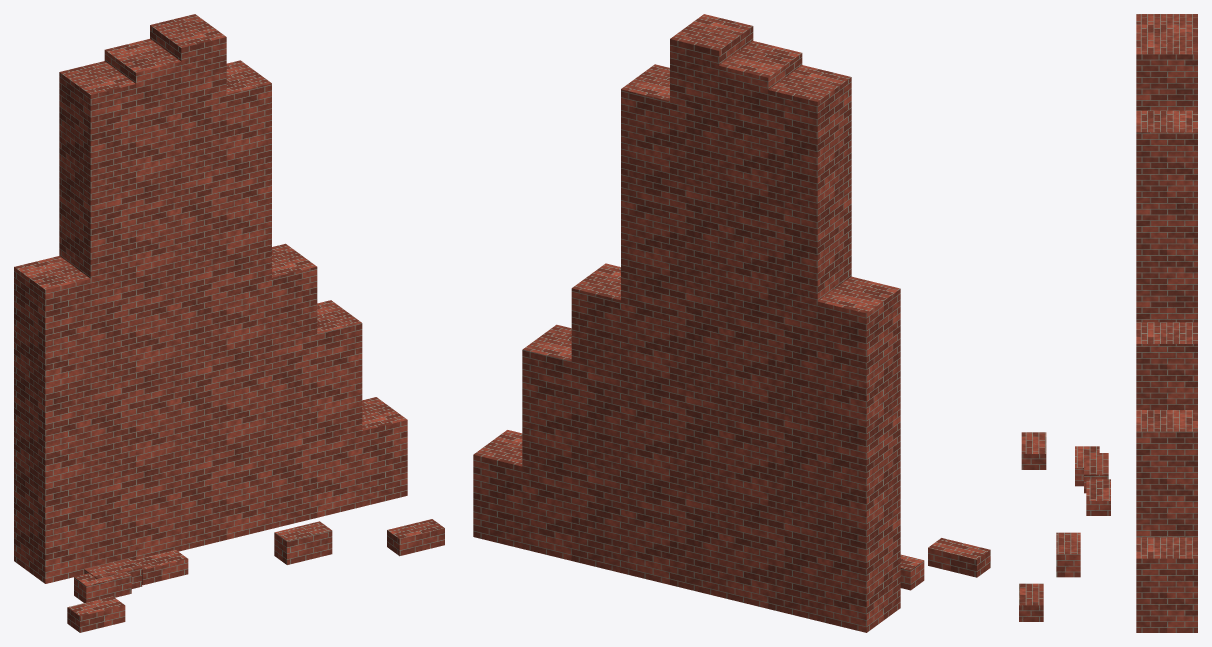
The model's file is Ruin_Wall_1.gltf.
3 views of the same model, side by side, from view 1: azimuth 30°, elevation 25°; view 2: azimuth 150°, elevation 25°; view 3: azimuth 270°, elevation 25° (orthographic). The views are drawn at different scales.
Parts seen in each view (by area): view 1: Ruin_Wall_1; view 2: Ruin_Wall_1; view 3: Ruin_Wall_1.
Boxes of the visible parts, box(x1,y1,x2,y2) form: Ruin_Wall_1: box(14, 14, 444, 632); Ruin_Wall_1: box(473, 14, 990, 632); Ruin_Wall_1: box(1019, 14, 1197, 632).
Size of the model in its own units: 4.27 by 5.31 by 1.75.
Materials: 1 (1 with a texture image).
